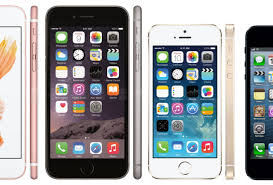iphone: (43, 1, 129, 180), (146, 16, 226, 185)
iphone5: (42, 1, 130, 180), (146, 16, 226, 185)
